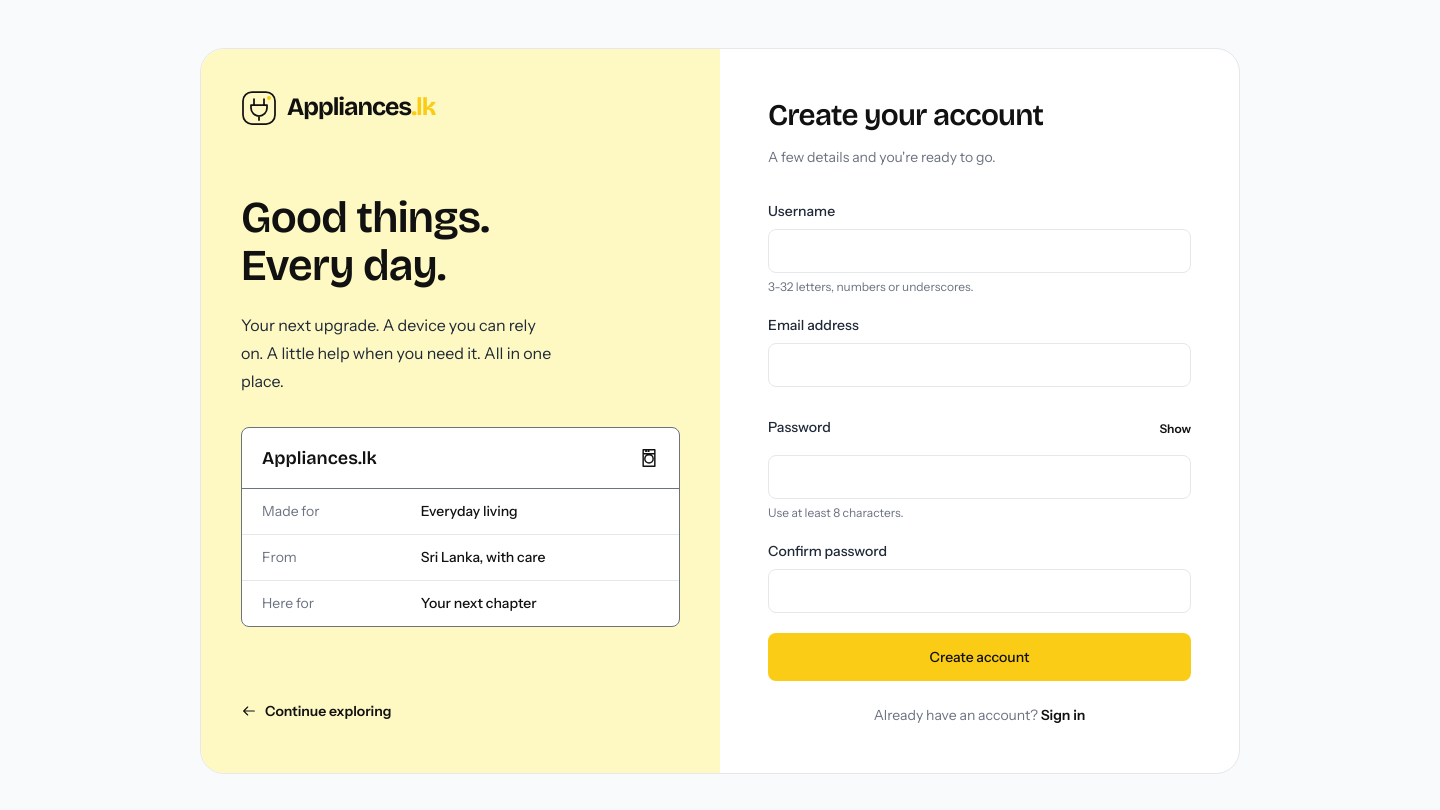
AuthForm › Register Mode › should display API errors on registration failure
The width and height of the screenshot is (1440, 810).
Type "existinguser" into the field labelled "Username".
click(980, 251); type("existinguser")  # box x1=768 y1=229 x2=1191 y2=273
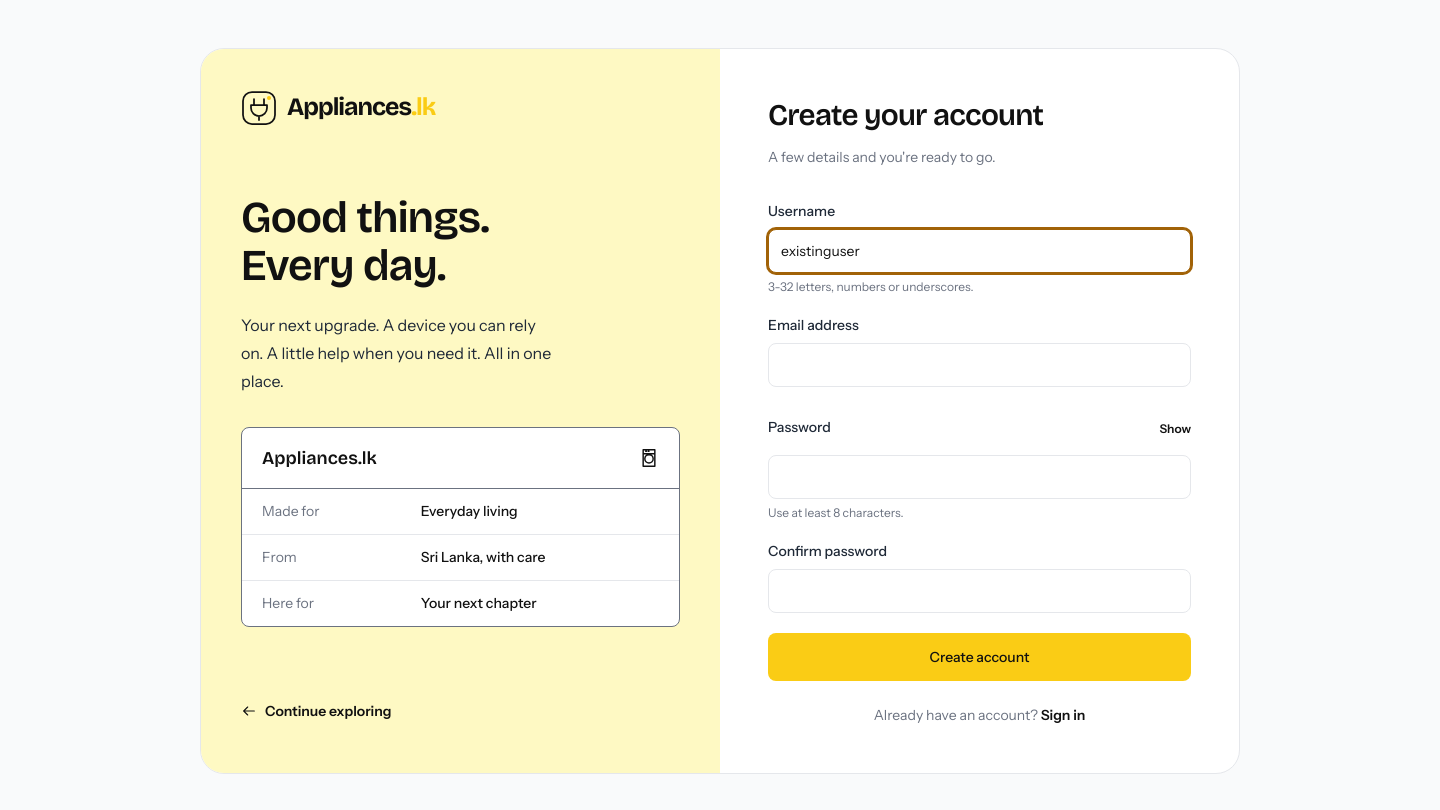
Type "existing@example.com" into the field labelled "Email address".
click(980, 365); type("existing@example.com")  # box x1=768 y1=343 x2=1191 y2=387
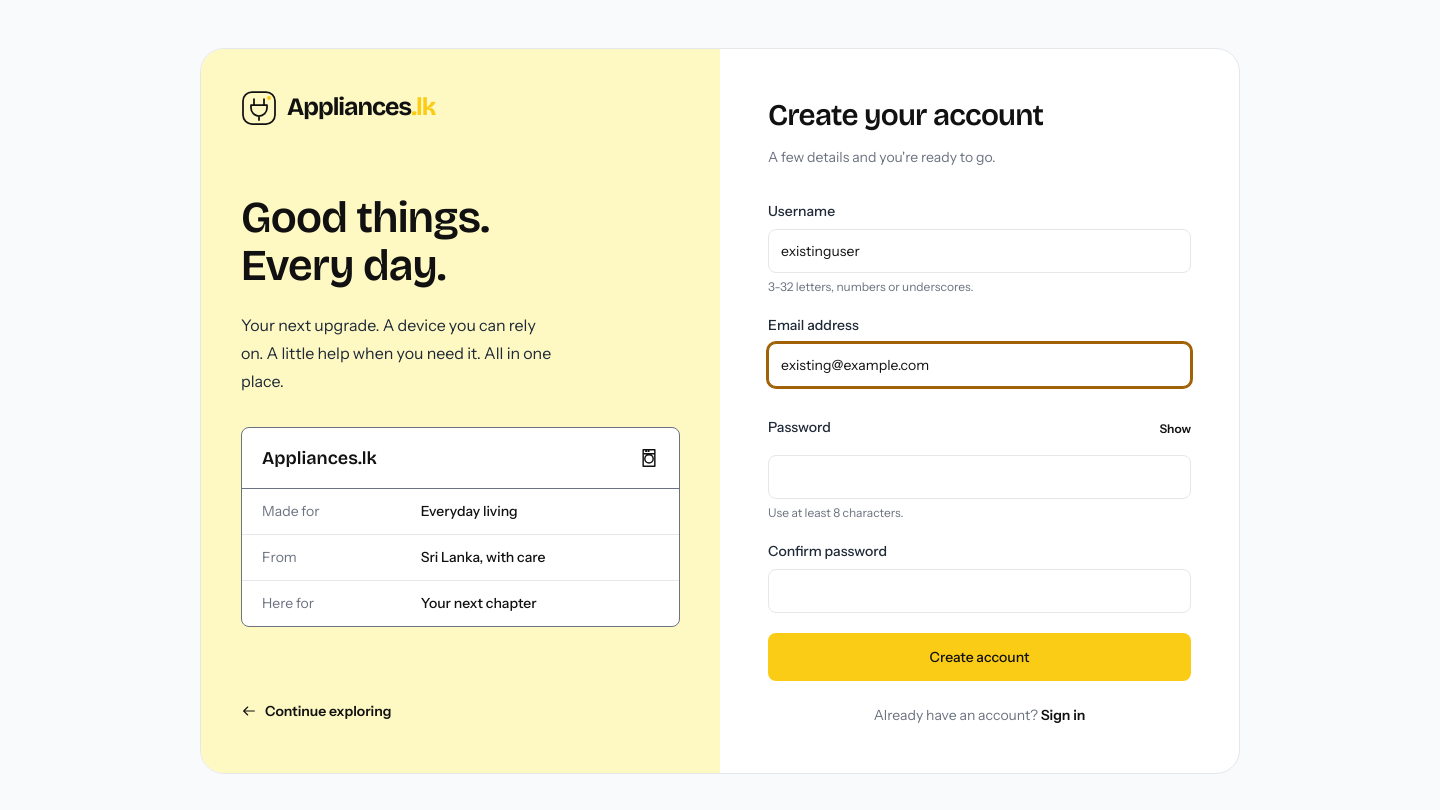
Type "password123" into the password field labelled "Password".
click(980, 477); type("password123")  # box x1=768 y1=455 x2=1191 y2=499
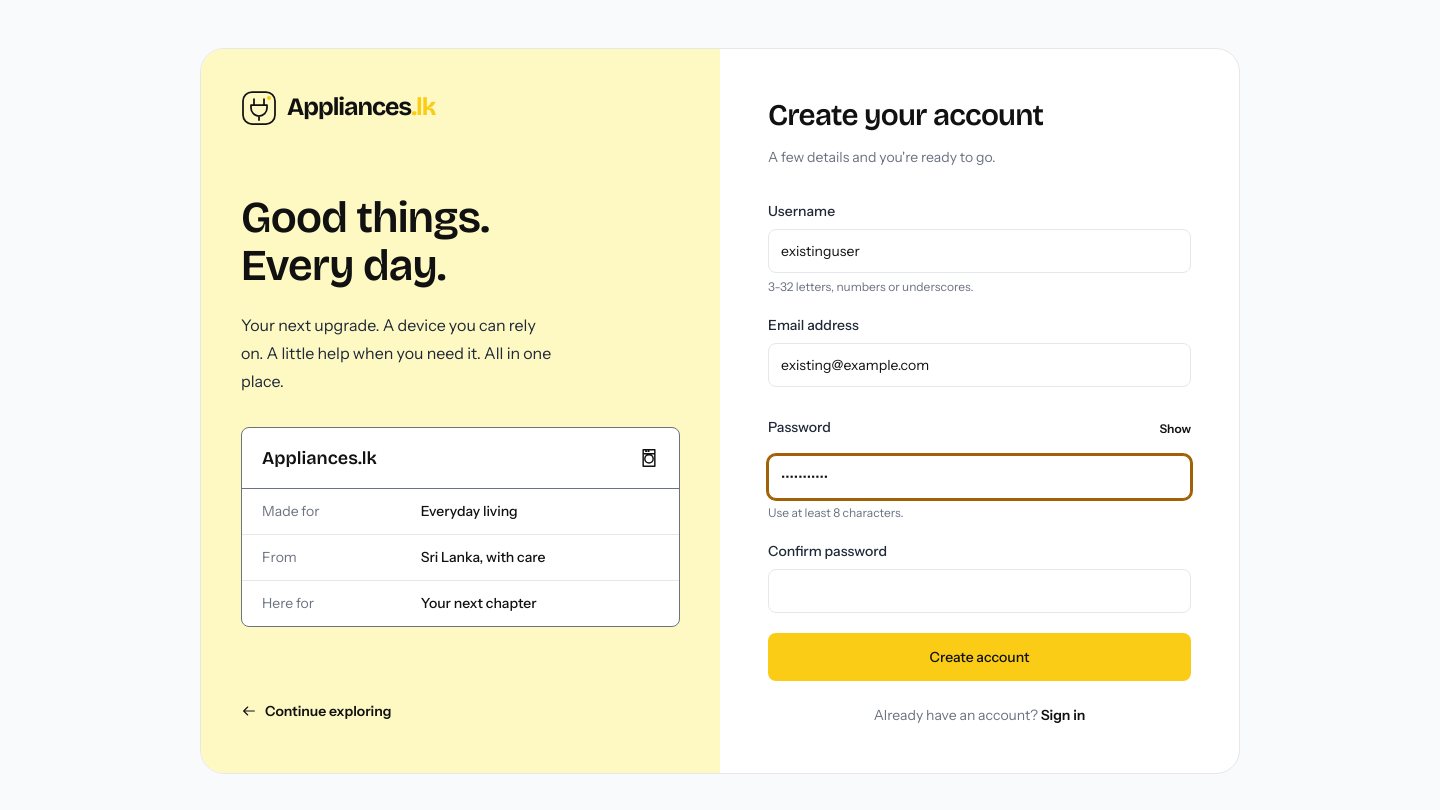
Type "password123" into the password field labelled "Confirm password".
click(980, 591); type("password123")  # box x1=768 y1=569 x2=1191 y2=613
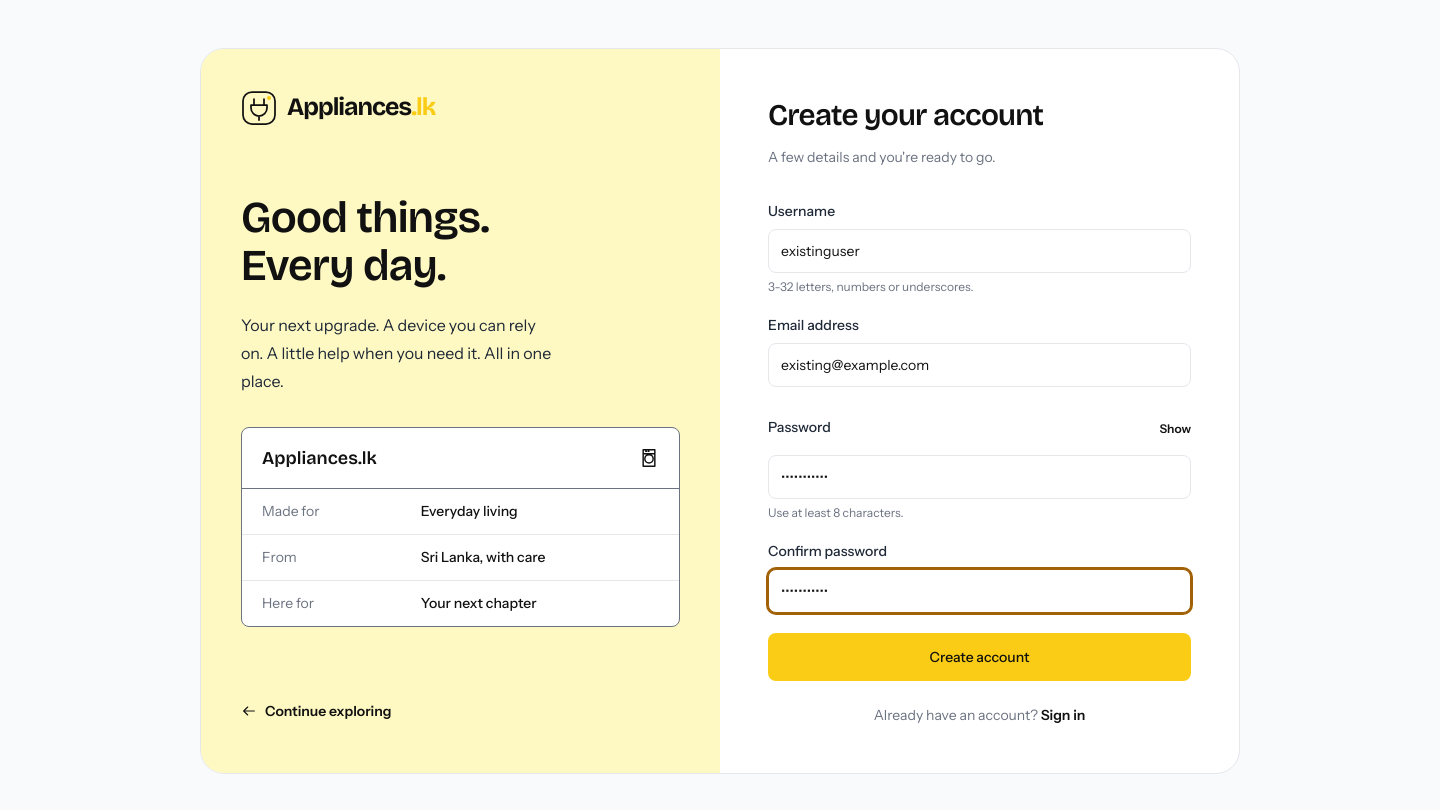
Click the button "Create account".
click(980, 657)  # box x1=768 y1=633 x2=1191 y2=681
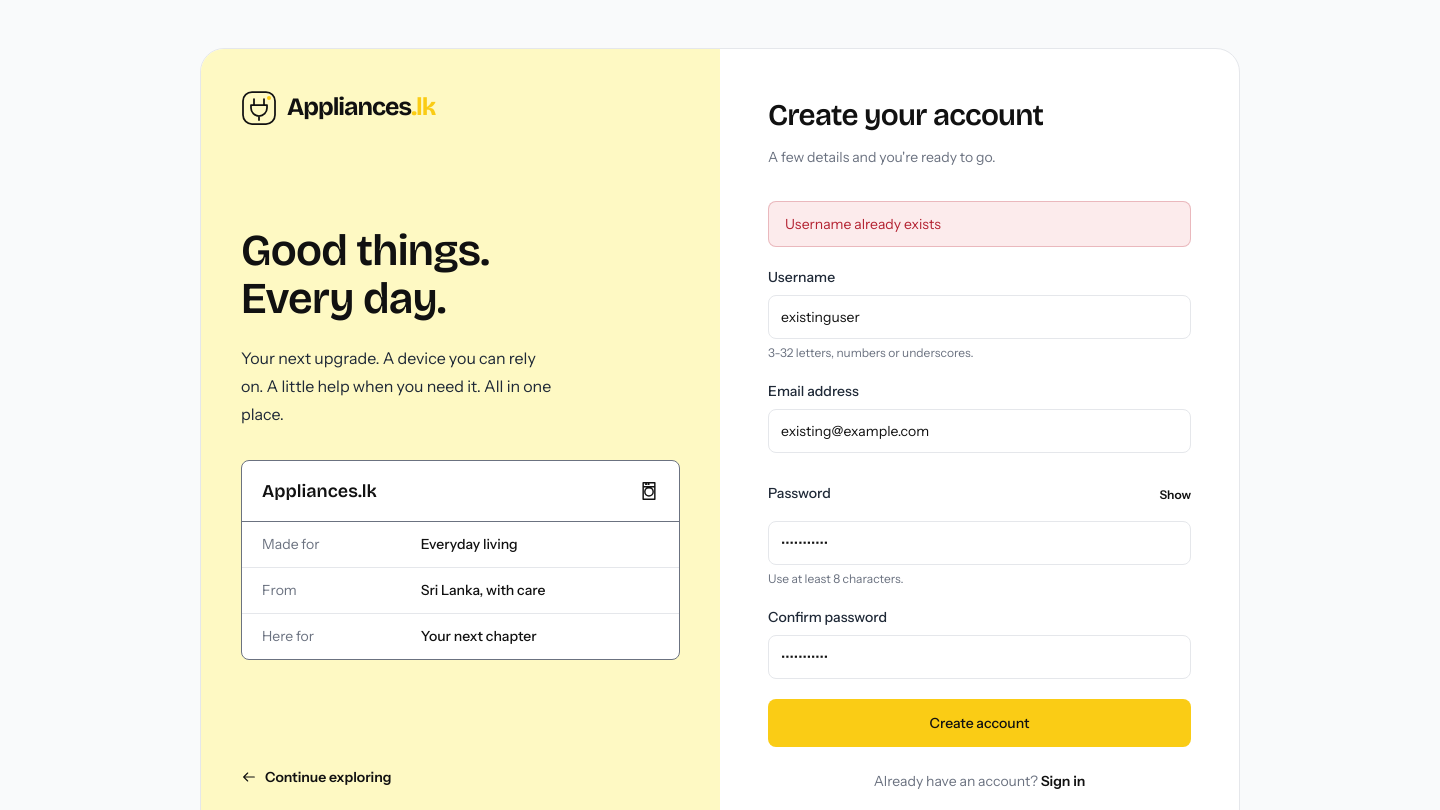
Check: the text "Username already exists" is shown, box x1=768 y1=201 x2=1191 y2=247
